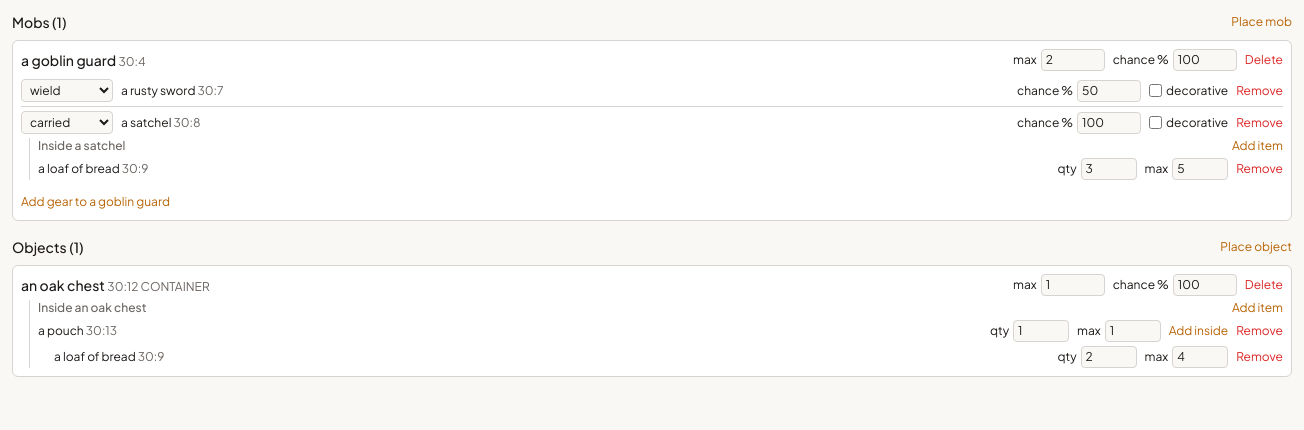
Test: RoomResetsPanel mob resets › shows the API reason when a write is refused
Click the button with aria-label "Delete reset of a goblin guard".
click(1264, 60)  # box [1245,52,1283,68]
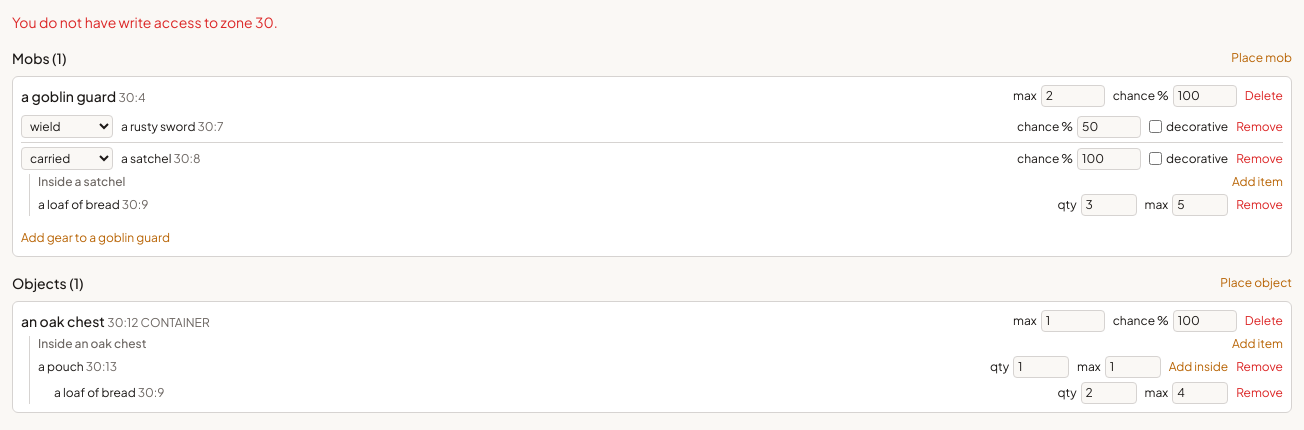
Result: the message reads "You do not have write access to zone 30." at [12,13,278,31]
